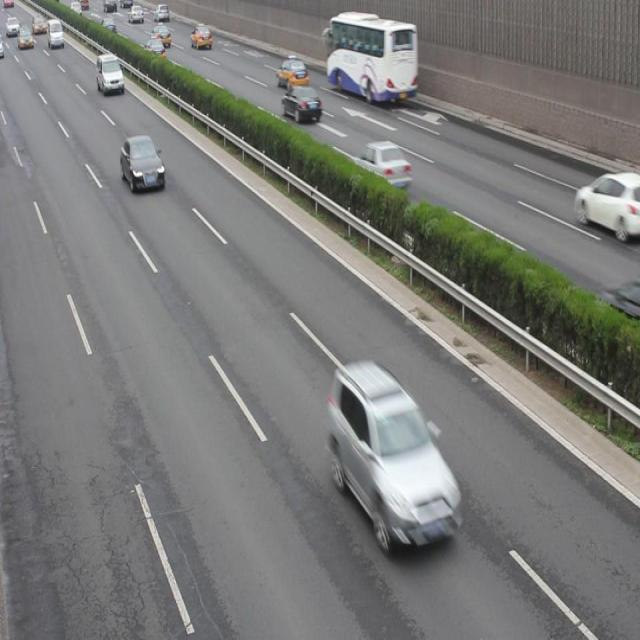car: (327, 363, 461, 551), (574, 174, 640, 237), (357, 140, 410, 189), (120, 136, 165, 193), (281, 85, 321, 121), (275, 54, 308, 91), (191, 24, 211, 52), (144, 36, 166, 61), (150, 24, 171, 46)
truck: (96, 55, 124, 94)
van: (321, 12, 417, 102)
